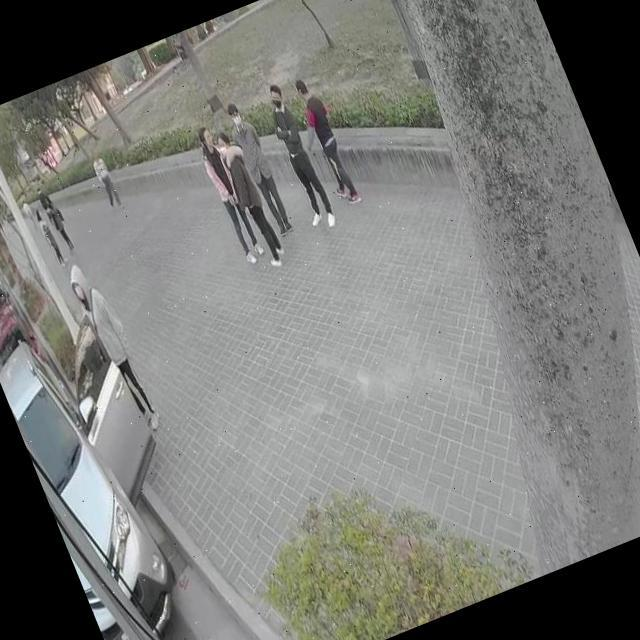person: (61, 251, 166, 438), (278, 64, 368, 214), (256, 77, 338, 232), (206, 121, 288, 271), (190, 122, 264, 268), (223, 96, 296, 233), (84, 138, 126, 212), (42, 193, 76, 255), (36, 212, 66, 266)
